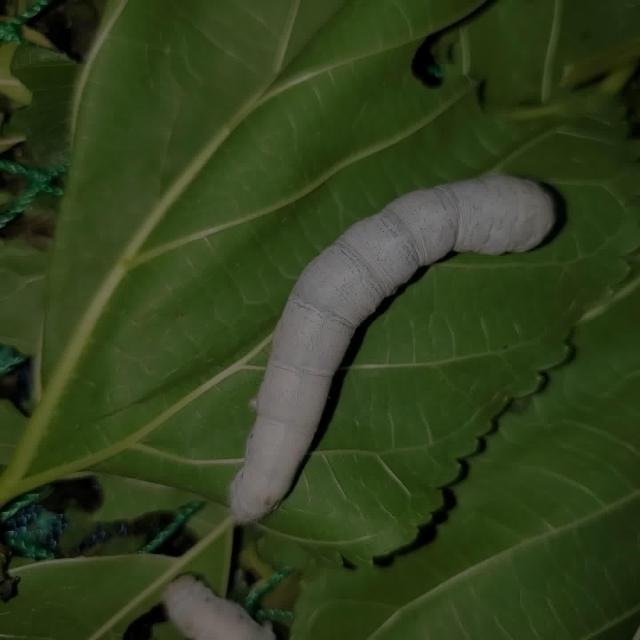Healthy: (181, 129, 595, 534)
